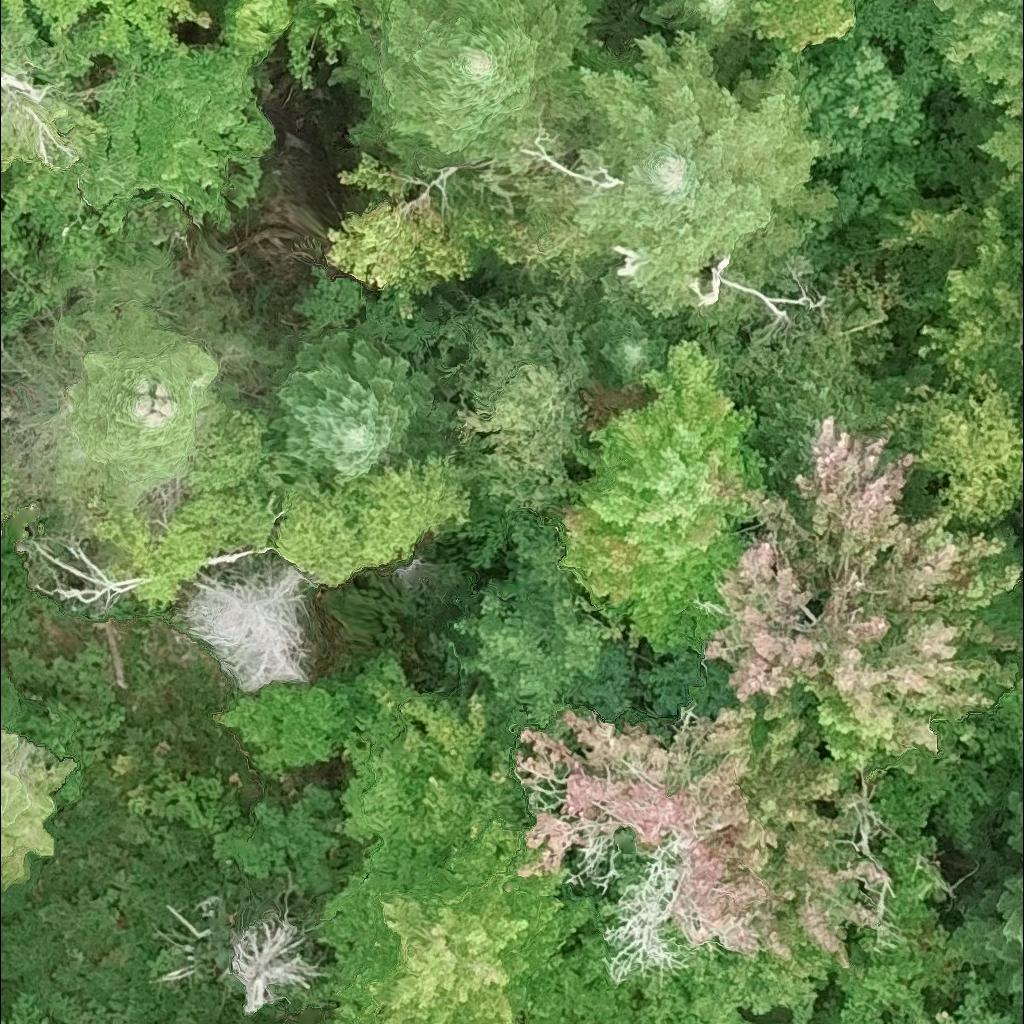crown: (699, 415, 1016, 778), (557, 772, 1012, 1023), (511, 695, 890, 984), (315, 653, 594, 1023), (516, 27, 839, 315), (561, 345, 765, 651), (354, 0, 598, 169), (329, 155, 535, 321), (58, 298, 221, 506), (269, 335, 437, 483), (167, 565, 312, 702), (795, 45, 915, 204), (922, 380, 1023, 527), (0, 718, 77, 891), (924, 0, 1023, 115), (228, 912, 320, 1014), (25, 0, 179, 54), (591, 292, 672, 382), (635, 0, 763, 51), (969, 872, 1023, 991), (756, 0, 856, 56), (992, 110, 1023, 189), (1004, 792, 1023, 854), (0, 403, 11, 428), (0, 497, 5, 528), (0, 468, 3, 497)
